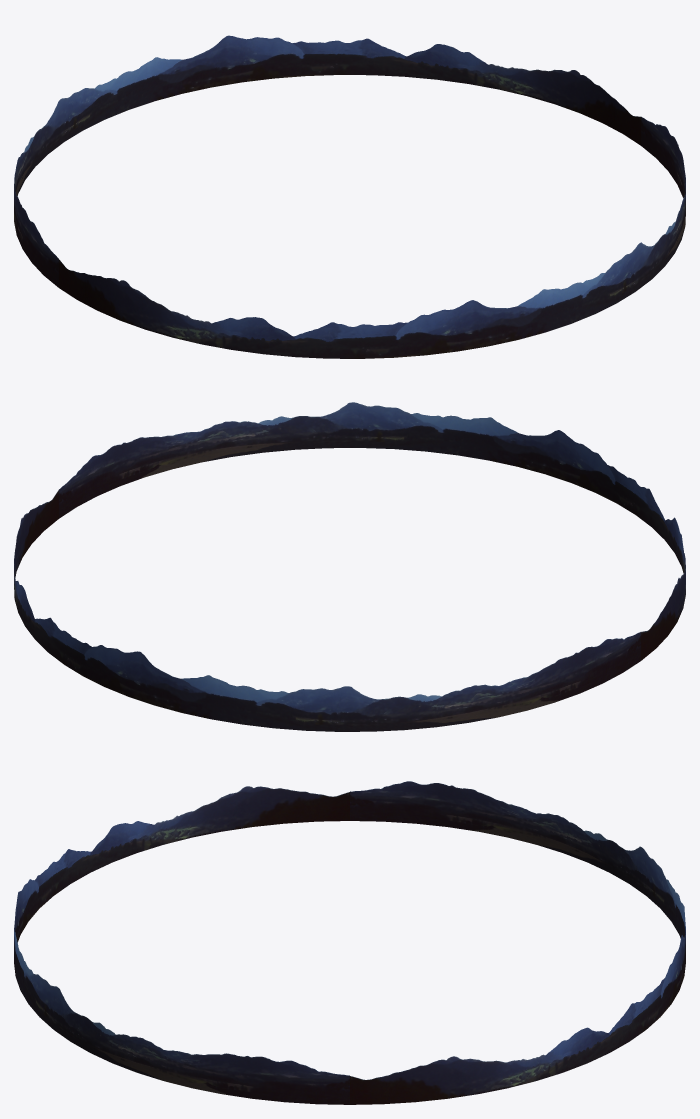
File: backplane.fbx
3 views of the same model, one above another, from view 1: azimuth 30°, elevation 25°; view 2: azimuth 150°, elevation 25°; view 3: azimuth 270°, elevation 25° (orthographic).
Visible parts, largest first — view 1: Mesh; view 2: Mesh; view 3: Mesh.
Part boxes in pixels (bbox=[...]): Mesh: bbox=[14, 35, 685, 358]; Mesh: bbox=[14, 402, 685, 731]; Mesh: bbox=[14, 781, 685, 1104].
Size of the model in its own units: 400000 by 40014 by 400000.
